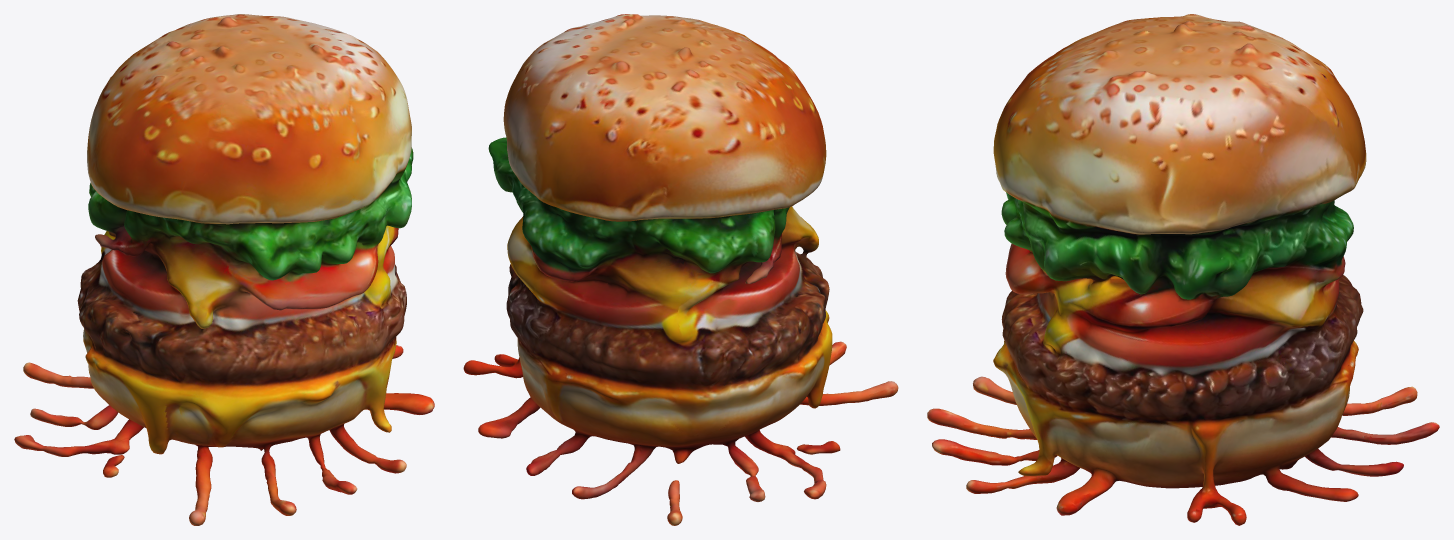
File: tripo_pbr_model_bfaa59e8-e7a1-4192-b800-37e330173e1b.glb
3 renders of one model, left to right at view 1: azimuth 30°, elevation 25°; view 2: azimuth 150°, elevation 25°; view 3: azimuth 270°, elevation 25°, orthographic. The views are drawn at different scales.
Parts seen in each view (by area): view 1: geometry_0; view 2: geometry_0; view 3: geometry_0.
Part boxes in pixels (box(x1,y1,x2,y2)): geometry_0: box(14, 14, 434, 525); geometry_0: box(463, 14, 898, 525); geometry_0: box(927, 14, 1439, 525).
Size of the model in its own units: 0.7119 by 0.7158 by 0.7694.
Materials: 1 (1 with a texture image).
